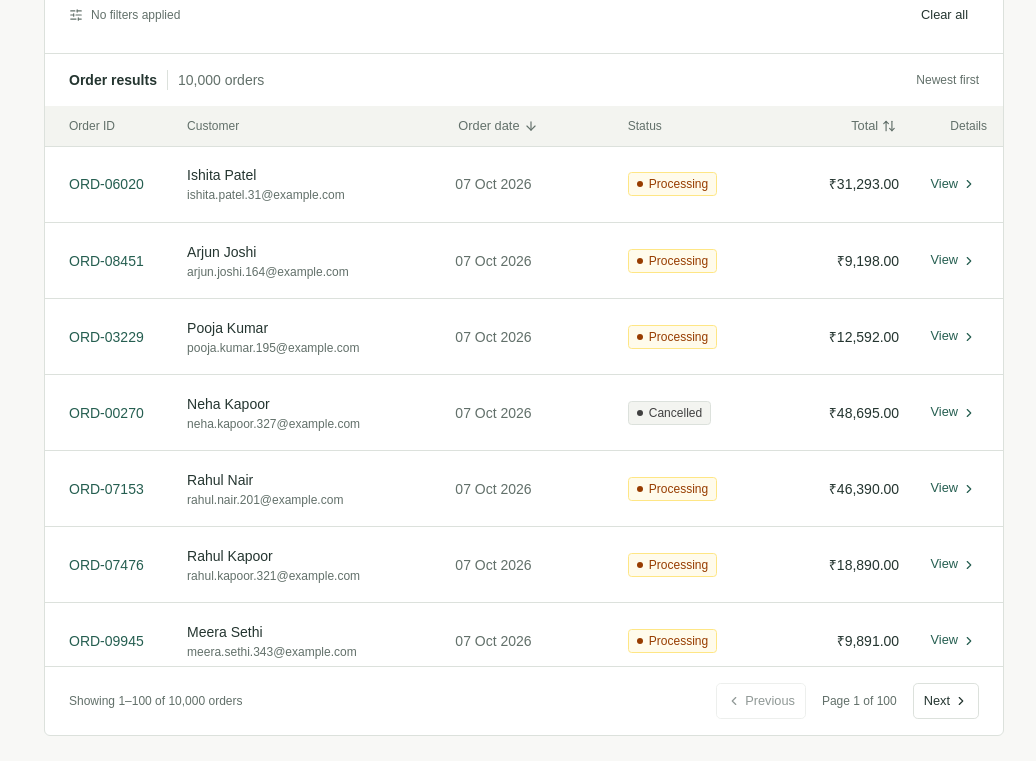
Test: sort and pagination update the URL
(page scrolled)
expect the text "Page 1 of 100" is shown: met, box 822,694 -> 897,708
Click the button "Next": (946, 701) 913,683 -> 979,719
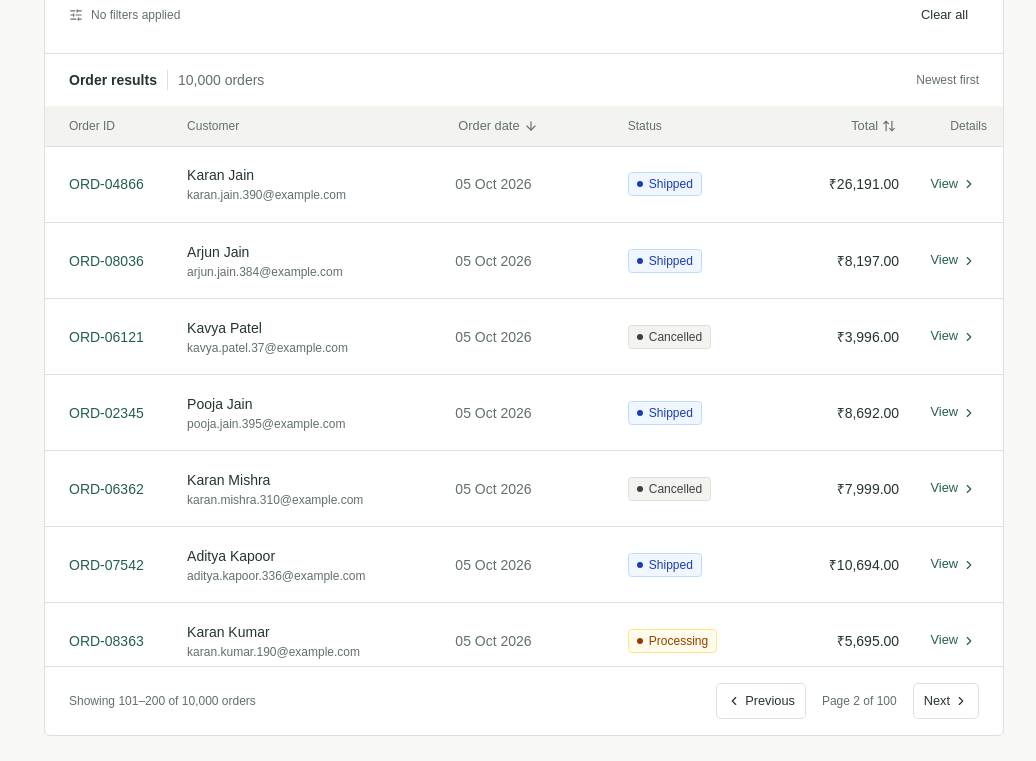
expect the text "Page 2 of 100" is shown: met, box 822,694 -> 897,708
Click the button with aria-label "Sort by order amount": (874, 126) 840,112 -> 907,140
(page scrolled)
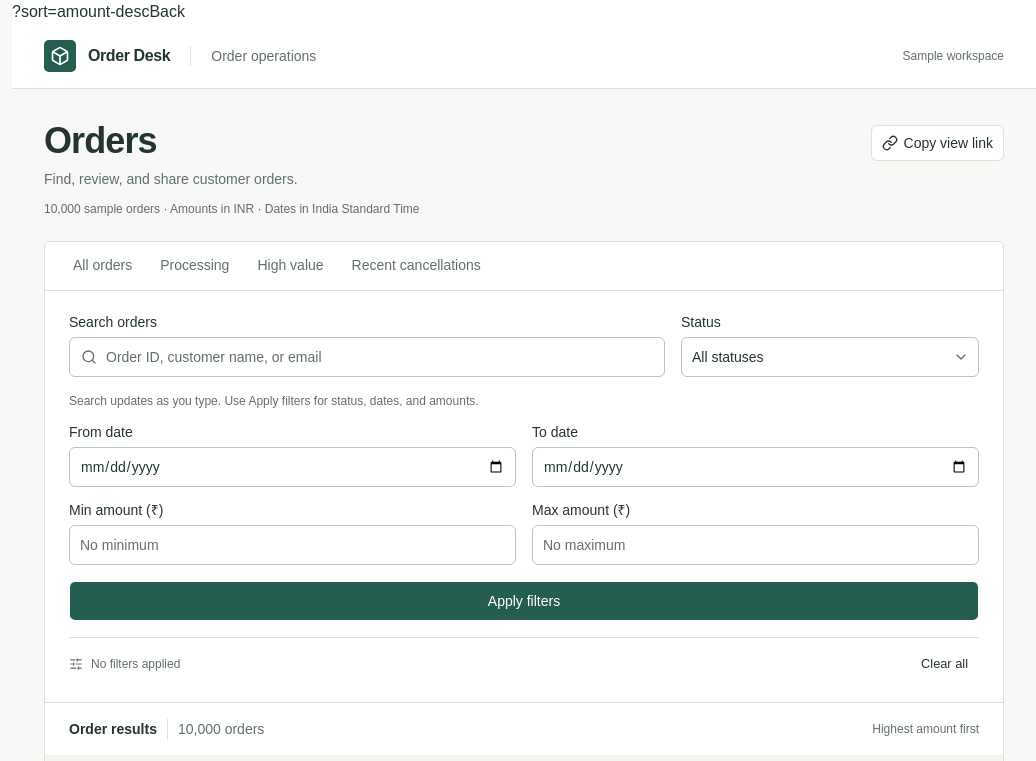
expect the text named "Current URL" shows "sort=amount-desc": met, box 12,3 -> 149,20
